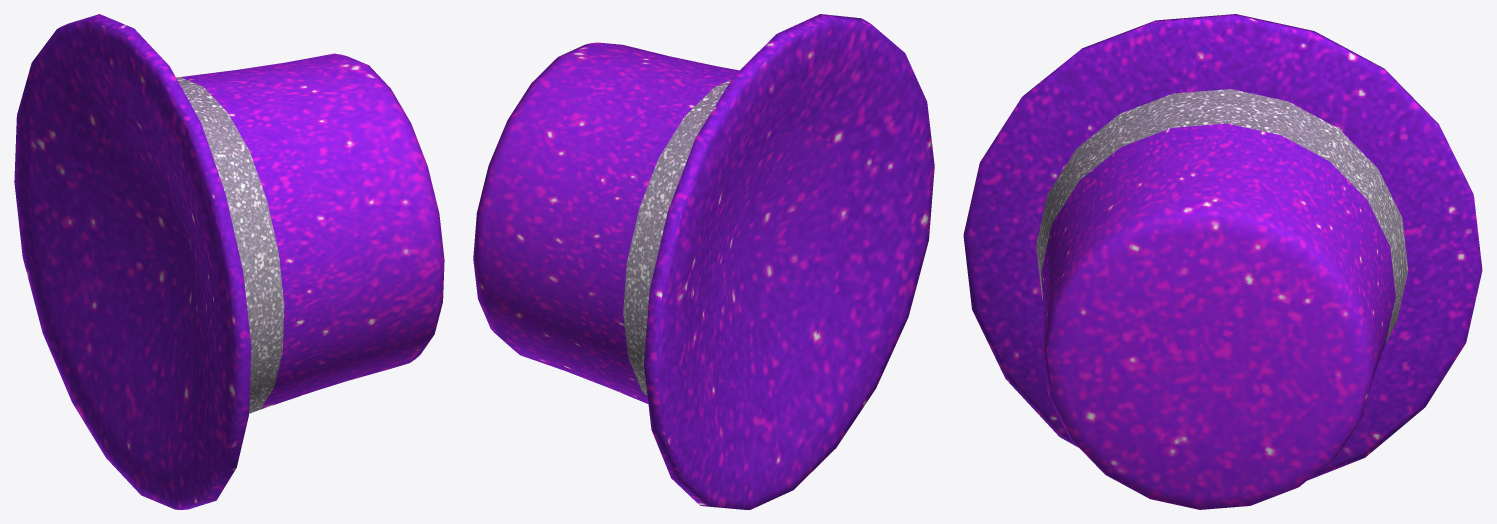
Rendered from pm0025_00_pikachu_newyear2021.fbx.
3 renders of one model, left to right at view 1: azimuth 30°, elevation 25°; view 2: azimuth 150°, elevation 25°; view 3: azimuth 270°, elevation 25°, orthographic. The views are drawn at different scales.
Parts seen in each view (by area): view 1: pm0025_00_NewyearSkin2021; view 2: pm0025_00_NewyearSkin2021; view 3: pm0025_00_NewyearSkin2021.
Boxes of the visible parts, x1,y1,x2,y2 form: pm0025_00_NewyearSkin2021: (14, 14, 444, 509); pm0025_00_NewyearSkin2021: (473, 14, 934, 509); pm0025_00_NewyearSkin2021: (963, 14, 1482, 509).
Size of the model in its own units: 0.0859 by 0.1426 by 0.1417.
